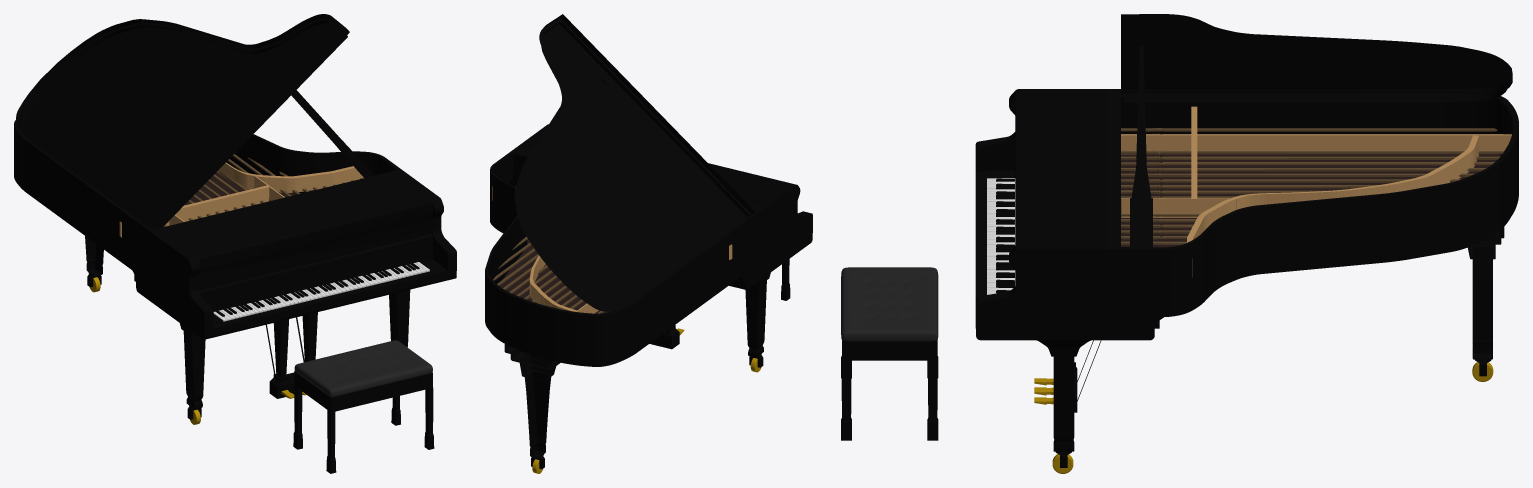
Rendered from grand_piano.glb.
The picture shows the model from 3 angles, left to right: view 1: azimuth 30°, elevation 25°; view 2: azimuth 150°, elevation 25°; view 3: azimuth 270°, elevation 25°; orthographic projection. The views are drawn at different scales.
Visible parts, largest first — view 1: piano_44, Cube.001_1, Plane.042_43, Cube.002_47, Cube_46, Plane.038_41, Plane.039_42, Plane_38, Plane.037_39; view 2: Cube.001_1, piano_44, Plane.038_41, Plane.042_43, Plane.039_42; view 3: piano_44, Cube.001_1, Plane.042_43, Cube.002_47, Plane.038_41, Cube_46, Plane.037_39, Plane_38, Plane.039_42.
Part boxes in pixels (x1,y1,x2,y2): piano_44: (14, 120, 456, 339); Cube.001_1: (16, 14, 349, 229); Plane.042_43: (119, 154, 363, 237); Cube.002_47: (294, 340, 432, 397); Cube_46: (293, 370, 434, 473); Plane.038_41: (85, 236, 410, 419); Plane.039_42: (265, 312, 317, 398); Plane_38: (213, 262, 429, 321); Plane.037_39: (285, 82, 374, 177); Cube.001_1: (514, 14, 755, 311); piano_44: (485, 124, 812, 366); Plane.038_41: (504, 272, 770, 468); Plane.042_43: (492, 186, 732, 313); Plane.039_42: (649, 325, 684, 349); piano_44: (975, 89, 1518, 340); Cube.001_1: (1121, 14, 1512, 102); Plane.042_43: (1121, 106, 1511, 277); Cube.002_47: (841, 267, 938, 341); Plane.038_41: (1037, 227, 1504, 467); Cube_46: (841, 340, 938, 440); Plane.037_39: (1130, 45, 1152, 247); Plane_38: (987, 178, 1015, 294); Plane.039_42: (1034, 340, 1101, 412).
Size of what is drawn, in the model's own units: 1.81 by 2.3 by 3.21.
